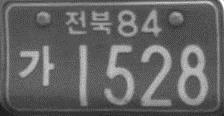1: (76, 43, 91, 109)
2: (141, 43, 174, 108)
4: (141, 7, 163, 39)
5: (103, 42, 135, 105)
8: (175, 42, 209, 105), (116, 8, 138, 37)
가: (16, 44, 56, 88)
전북_O: (63, 9, 113, 37)
